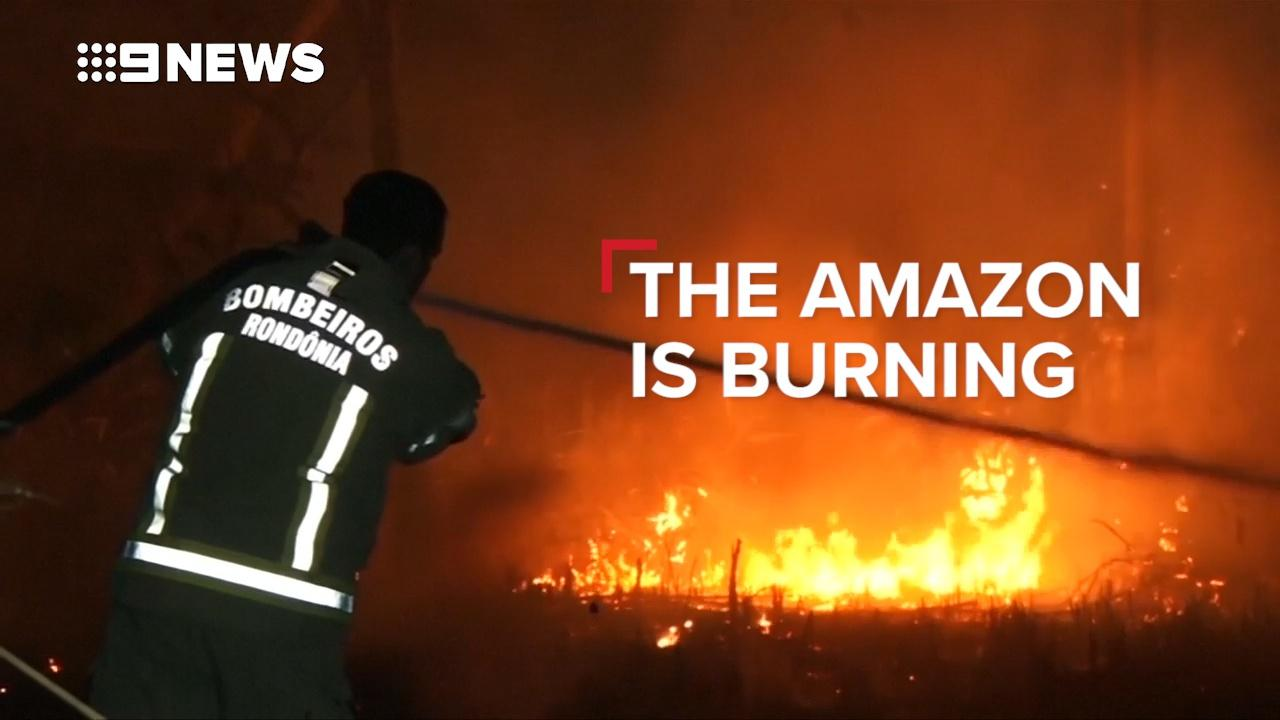victim: (102, 159, 490, 712)
